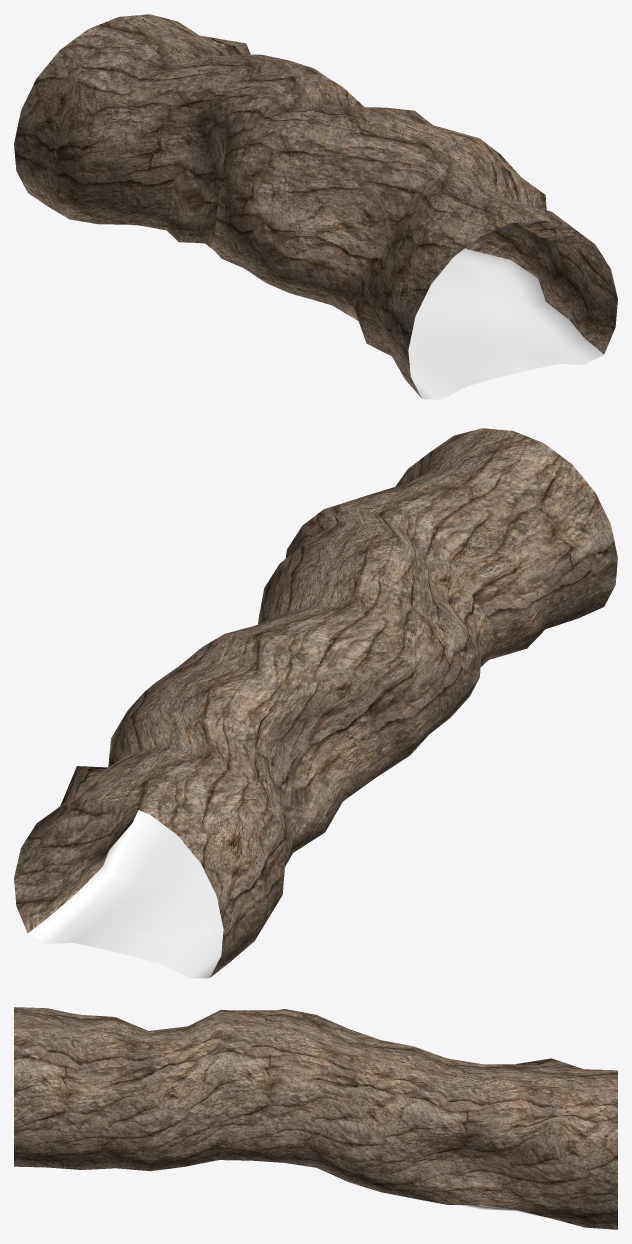
The model's file is CaveCorridorDownSmall.fbx.
3 renders of one model, top to bottom at view 1: azimuth 30°, elevation 25°; view 2: azimuth 150°, elevation 25°; view 3: azimuth 270°, elevation 25°, orthographic. The views are drawn at different scales.
Parts seen in each view (by area): view 1: CaveCorridorDownSmall; view 2: CaveCorridorDownSmall; view 3: CaveCorridorDownSmall.
Boxes of the visible parts, x1,y1,x2,y2 form: CaveCorridorDownSmall: (14,14,617,399); CaveCorridorDownSmall: (14,428,617,978); CaveCorridorDownSmall: (14,1007,617,1229).
Size of the model in its own units: 353 by 356 by 1040.
